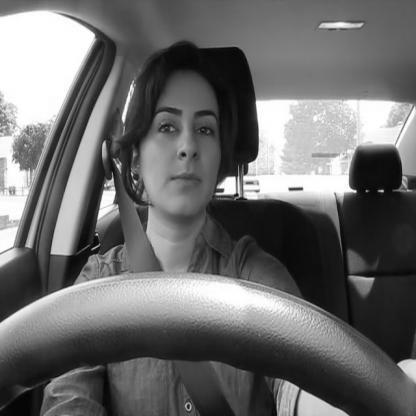seatbelt: (97, 25, 255, 416)
